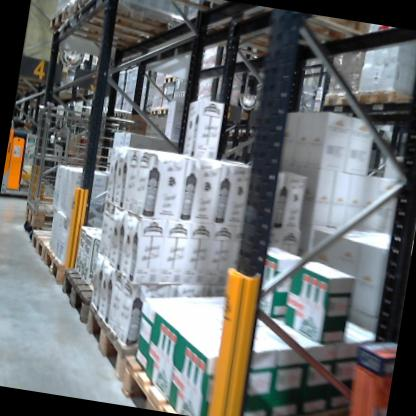pallet: (119, 336, 354, 416), (221, 1, 372, 67), (76, 295, 166, 401), (195, 7, 318, 73), (43, 0, 183, 56), (63, 0, 186, 57), (52, 259, 99, 332), (128, 0, 249, 23), (37, 240, 73, 296), (355, 86, 412, 120), (23, 224, 66, 269), (22, 200, 60, 233), (322, 88, 355, 112), (107, 106, 122, 121), (159, 104, 172, 117), (163, 75, 178, 85), (147, 107, 159, 118), (119, 109, 130, 121)
pallet_truck: (1, 110, 53, 199)
